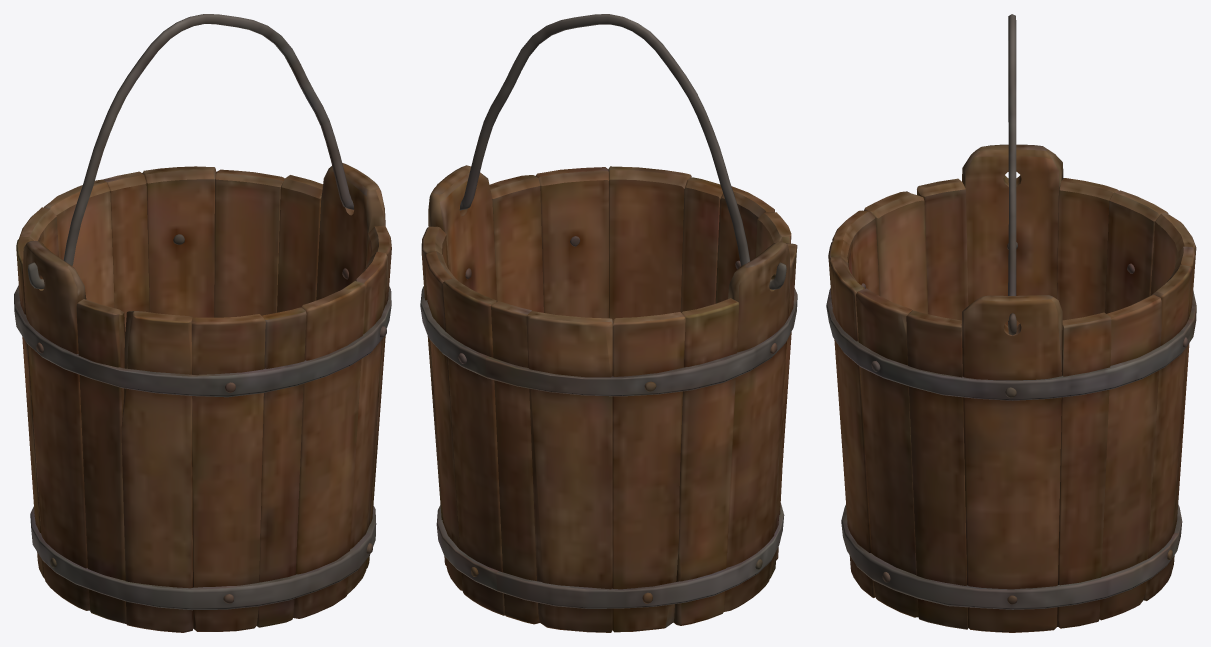
The model's file is wooden_bucket_01.glb.
The picture shows the model from 3 angles, left to right: view 1: azimuth 30°, elevation 25°; view 2: azimuth 150°, elevation 25°; view 3: azimuth 270°, elevation 25°; orthographic projection.
Parts seen in each view (by area): view 1: wooden_bucket_01, wooden_bucket_01_handle; view 2: wooden_bucket_01, wooden_bucket_01_handle; view 3: wooden_bucket_01, wooden_bucket_01_handle.
Boxes of the visible parts, x1,y1,x2,y2 form: wooden_bucket_01: [14, 163, 391, 632]; wooden_bucket_01_handle: [27, 14, 354, 289]; wooden_bucket_01: [420, 165, 797, 632]; wooden_bucket_01_handle: [437, 14, 786, 289]; wooden_bucket_01: [826, 144, 1196, 632]; wooden_bucket_01_handle: [1008, 14, 1016, 335].
Bounding box in the file's own units: 0.367 × 0.5499 × 0.3422.
Materials: 1 (1 with a texture image).
